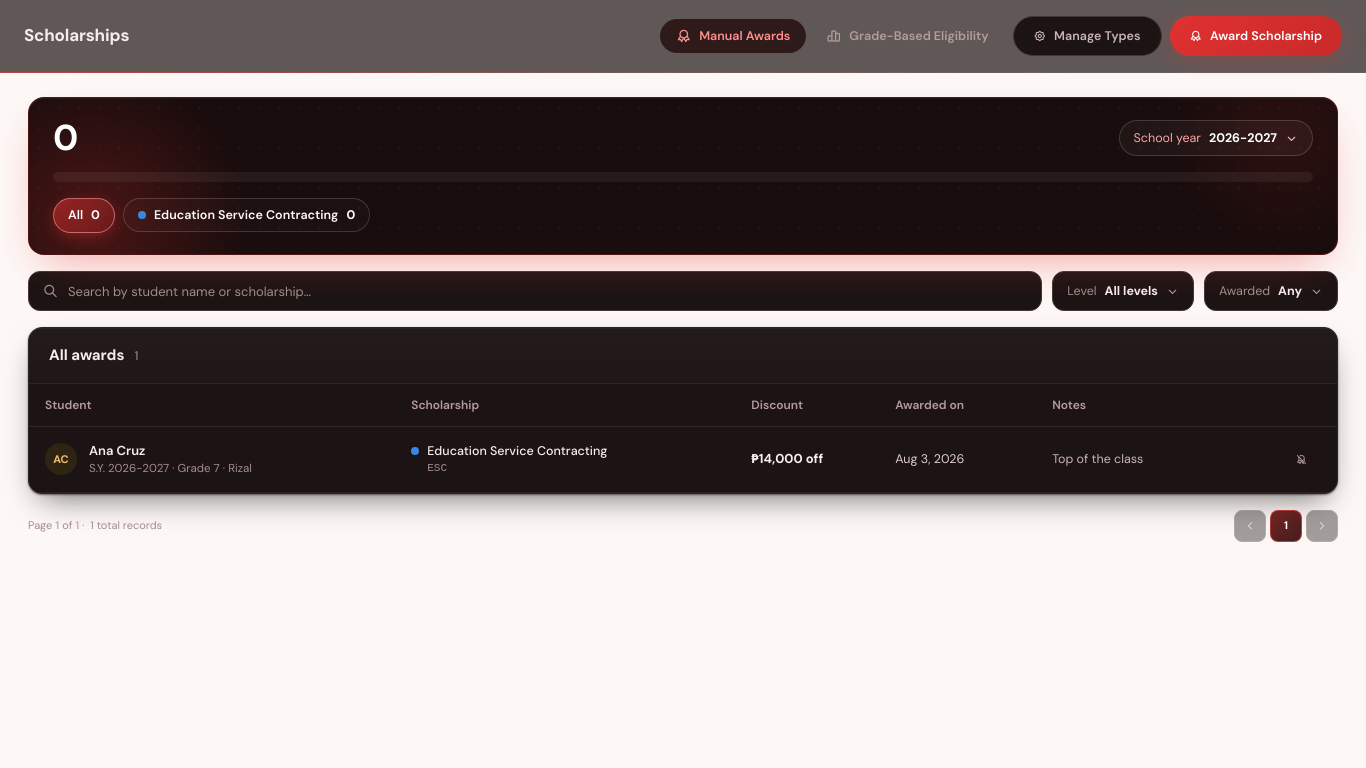
Test case: Scholarships — dark mode › shows the awards list and the revoke confirm
The width and height of the screenshot is (1366, 768).
Check: the text "Ana Cruz" is shown, box [89,442,145,459]
Check: the text "Top of the class" is shown, box [1052,451,1143,467]
Click the button named "Revoke scholarship from Ana Cruz".
click(1302, 459)  # box [1282,443,1321,475]
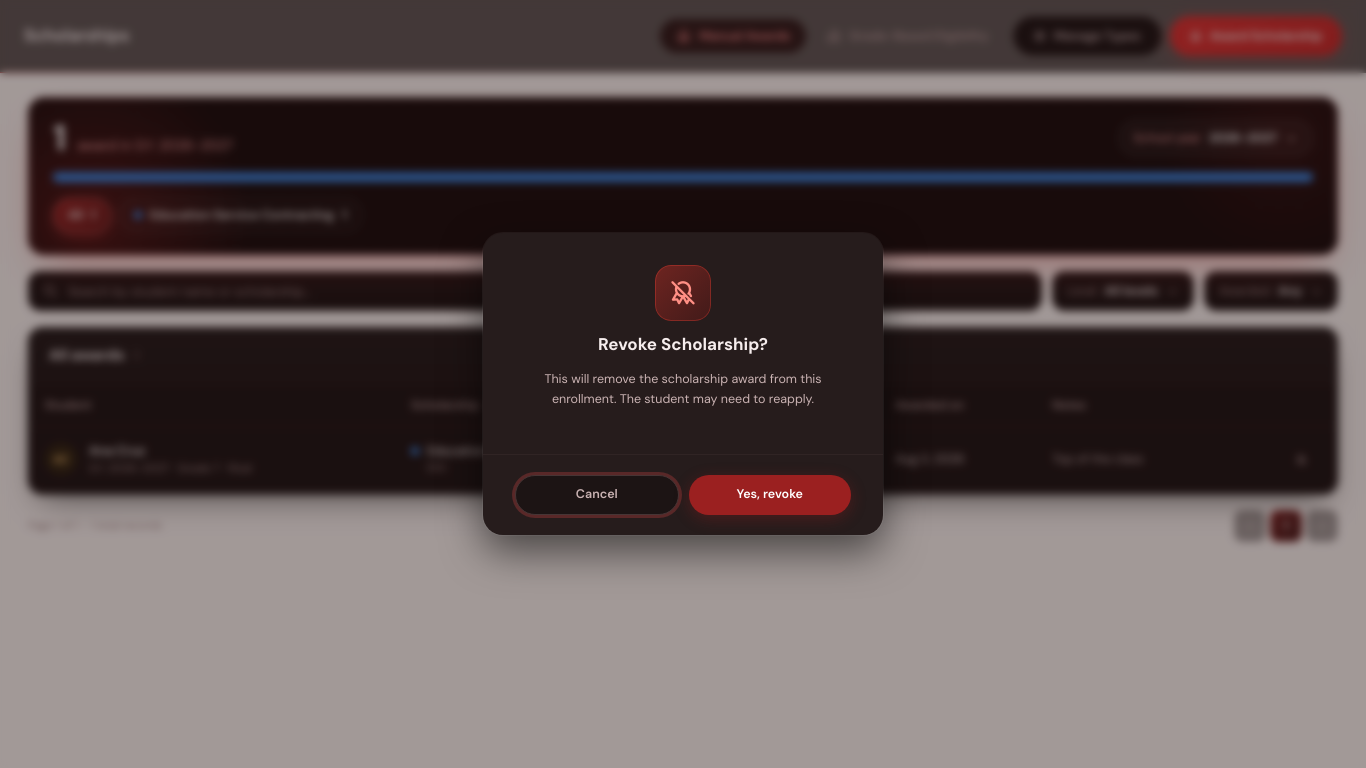
Check: the heading "Revoke Scholarship?" is shown, box [598,333,768,357]
